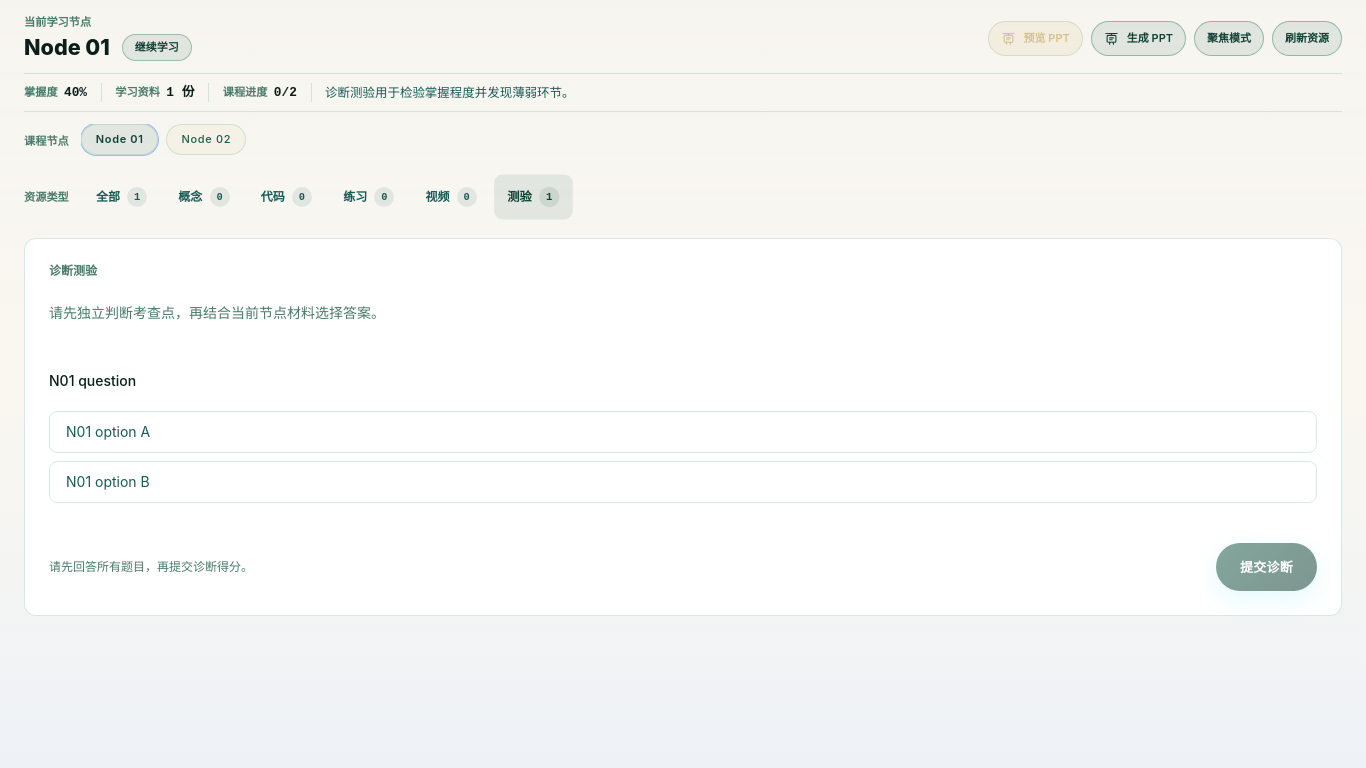
Scenario: ResourceCanvas quiz interaction › keeps quiz results open until returning or choosing the next chapter
The width and height of the screenshot is (1366, 768).
Click the button "N01 option A": (108, 431) left=49, top=411, right=1317, bottom=453
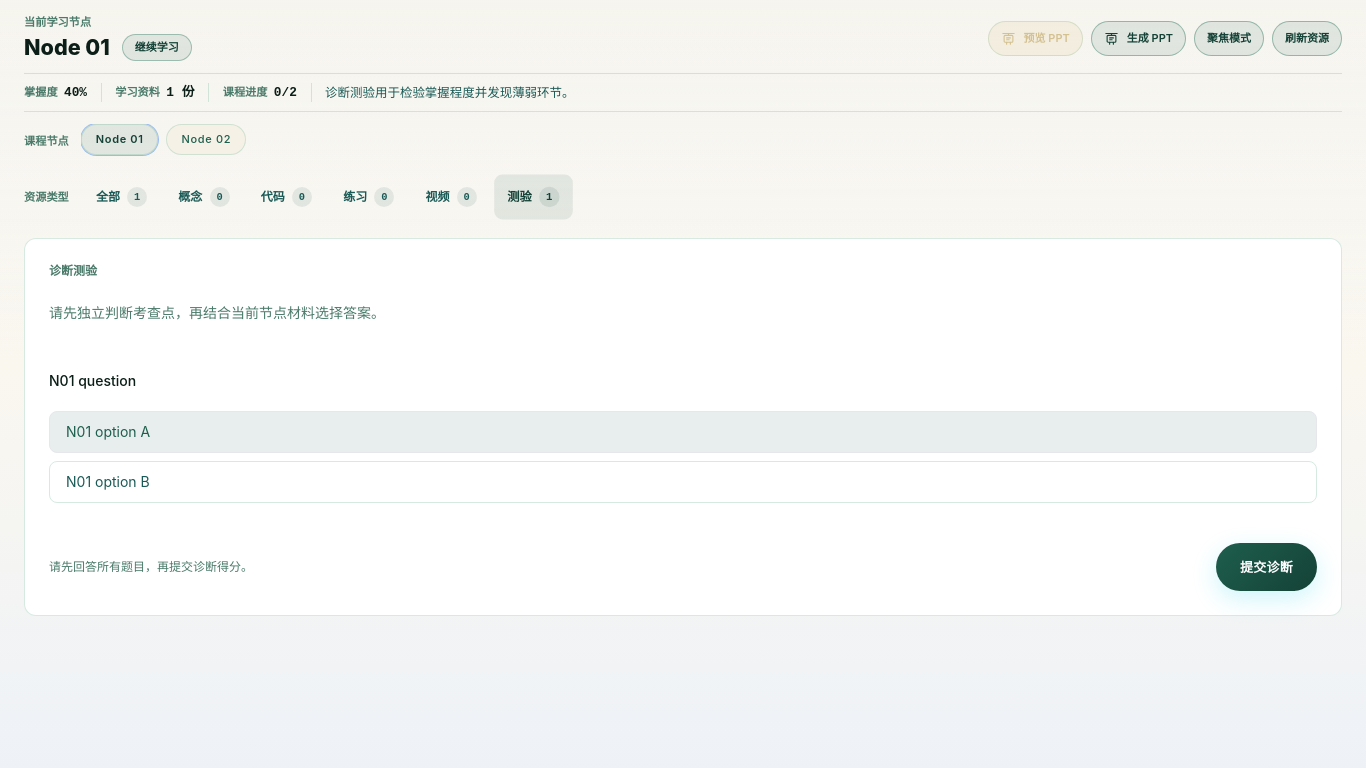
Click the button "提交诊断": (1266, 567) left=1216, top=543, right=1317, bottom=591
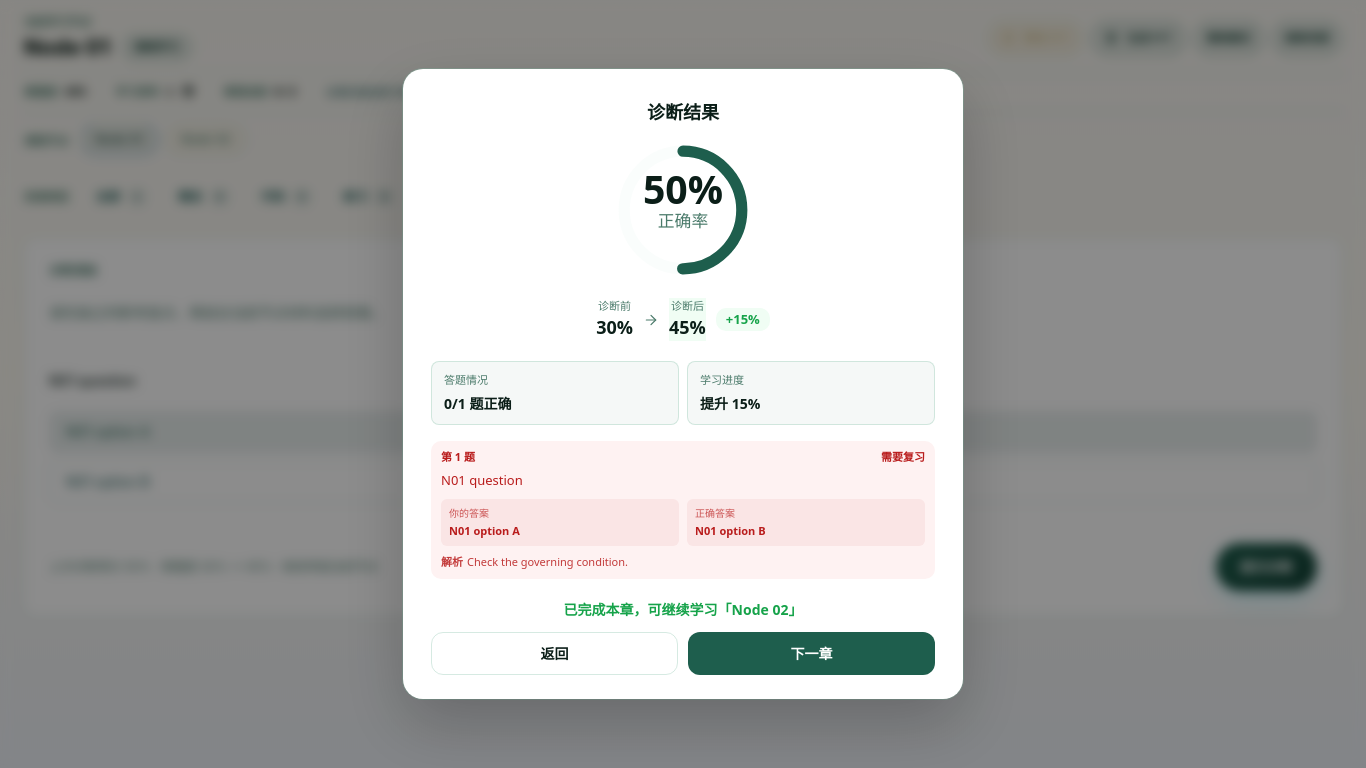
Check: the dialog shows "诊断结果", box left=647, top=100, right=719, bottom=124
Check: the dialog shows "需要复习", box left=881, top=449, right=925, bottom=464
Check: the dialog shows "提升 15%", box left=700, top=394, right=760, bottom=413
Click the button "返回": (554, 653) left=431, top=632, right=678, bottom=675
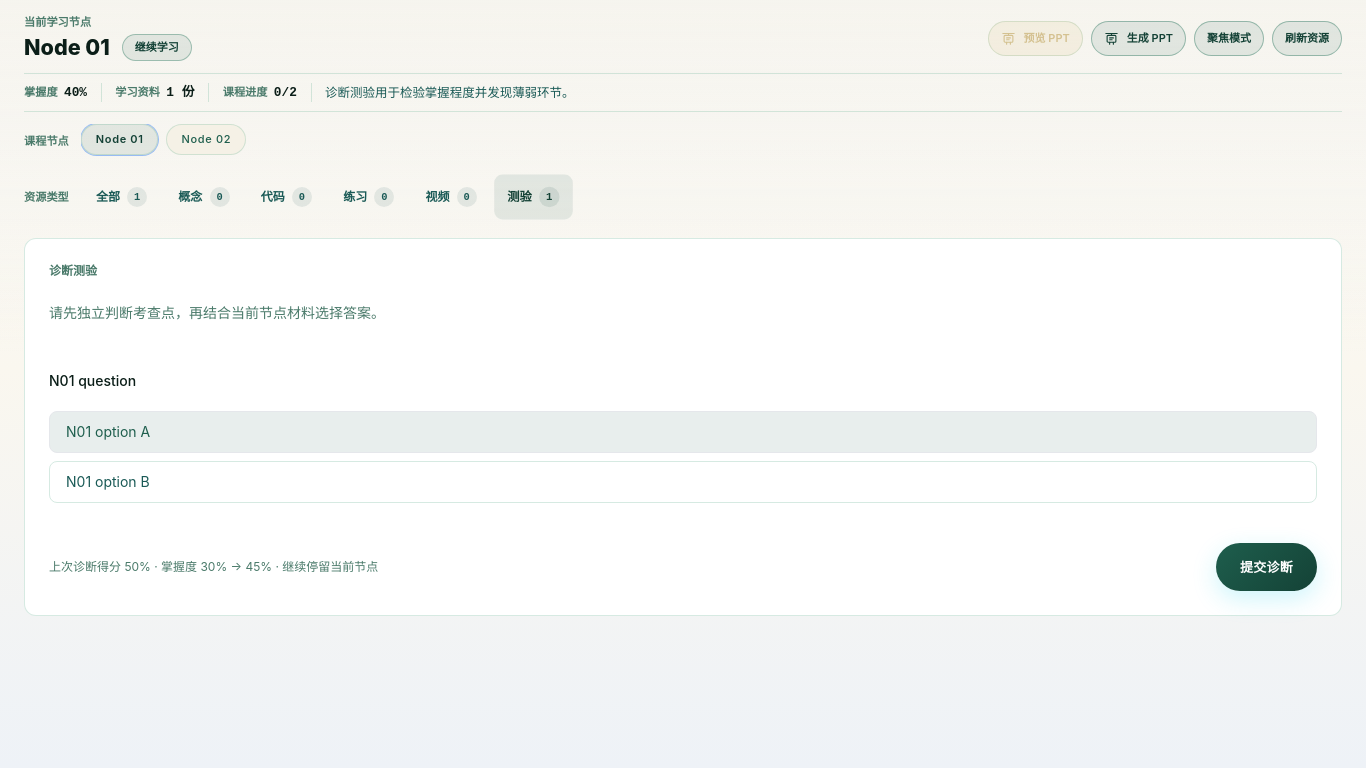
Check: the button "提交诊断" is enabled
Check: the dialog is gone
Click the button "提交诊断": (1266, 567) left=1216, top=543, right=1317, bottom=591
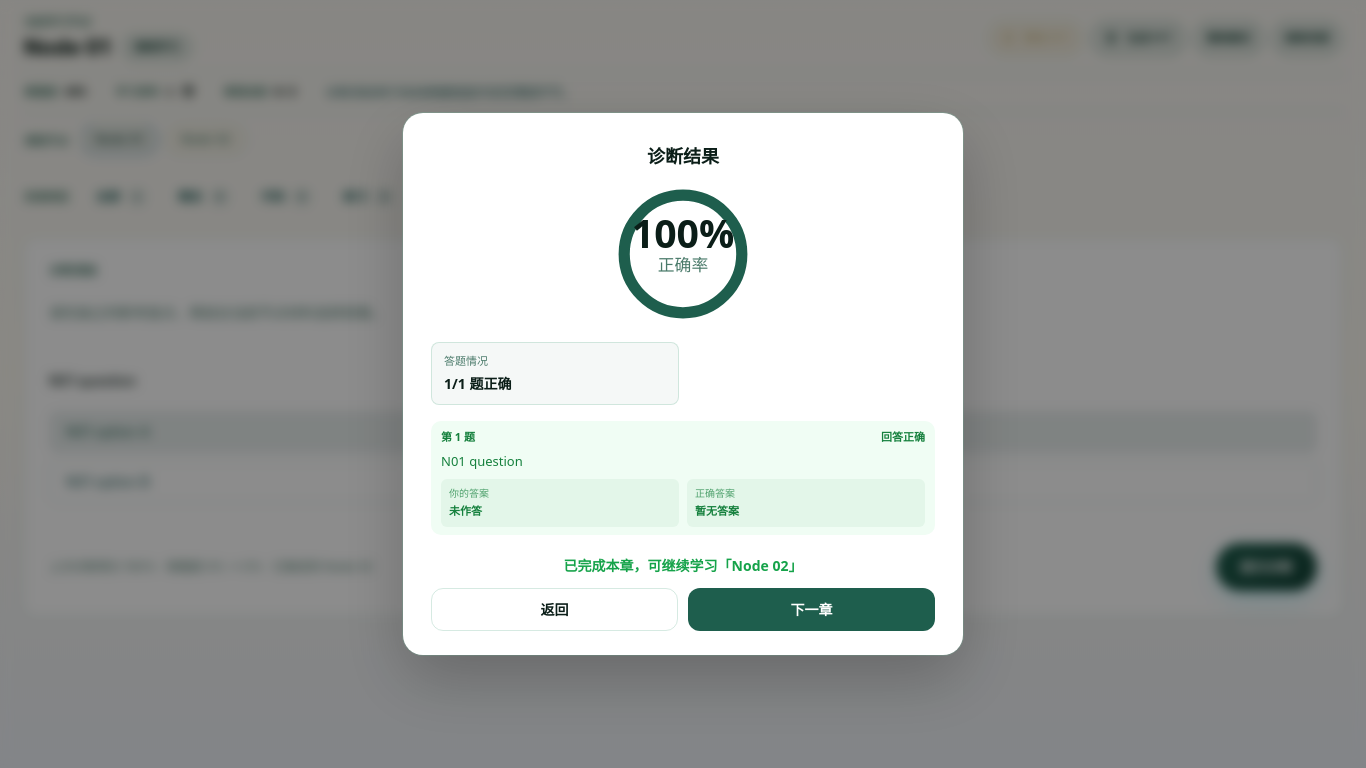
Click the button "下一章": (812, 609) left=688, top=588, right=935, bottom=631
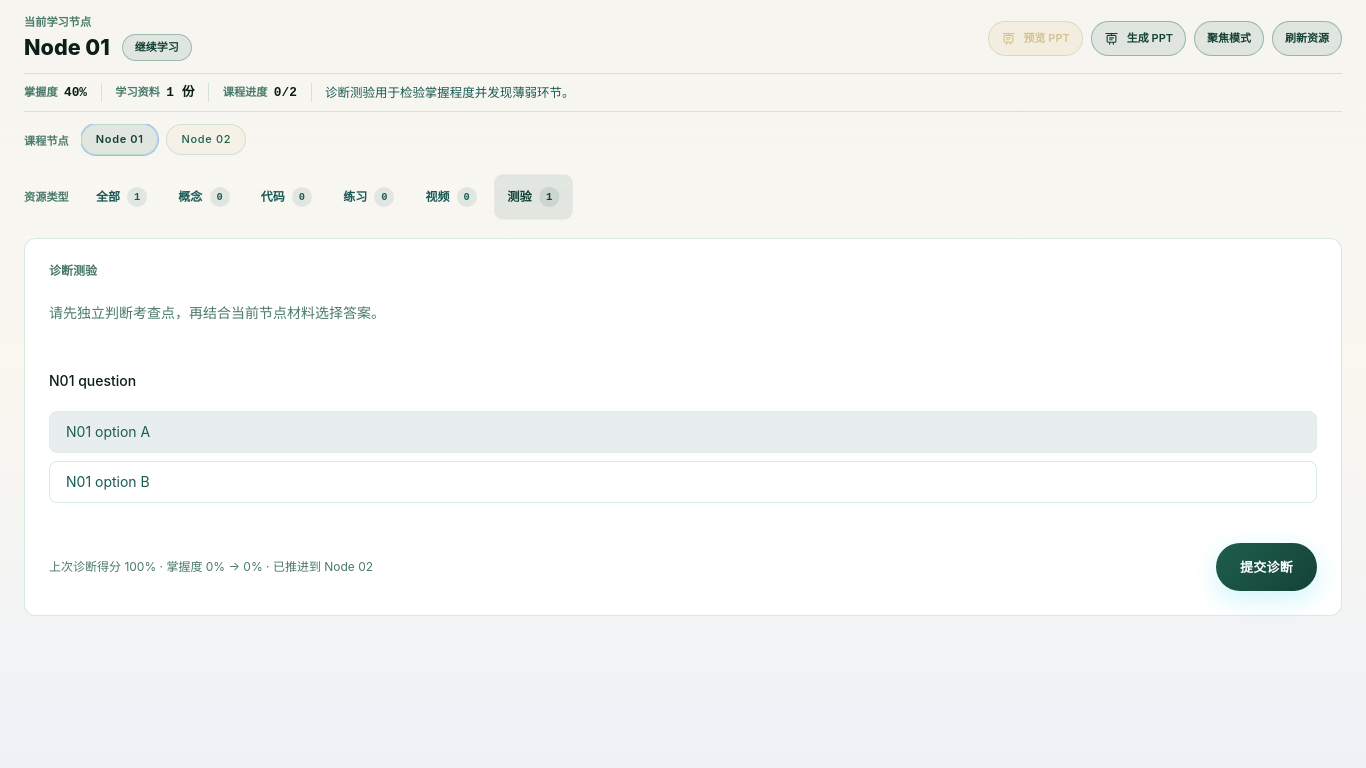
Check: the dialog is gone
